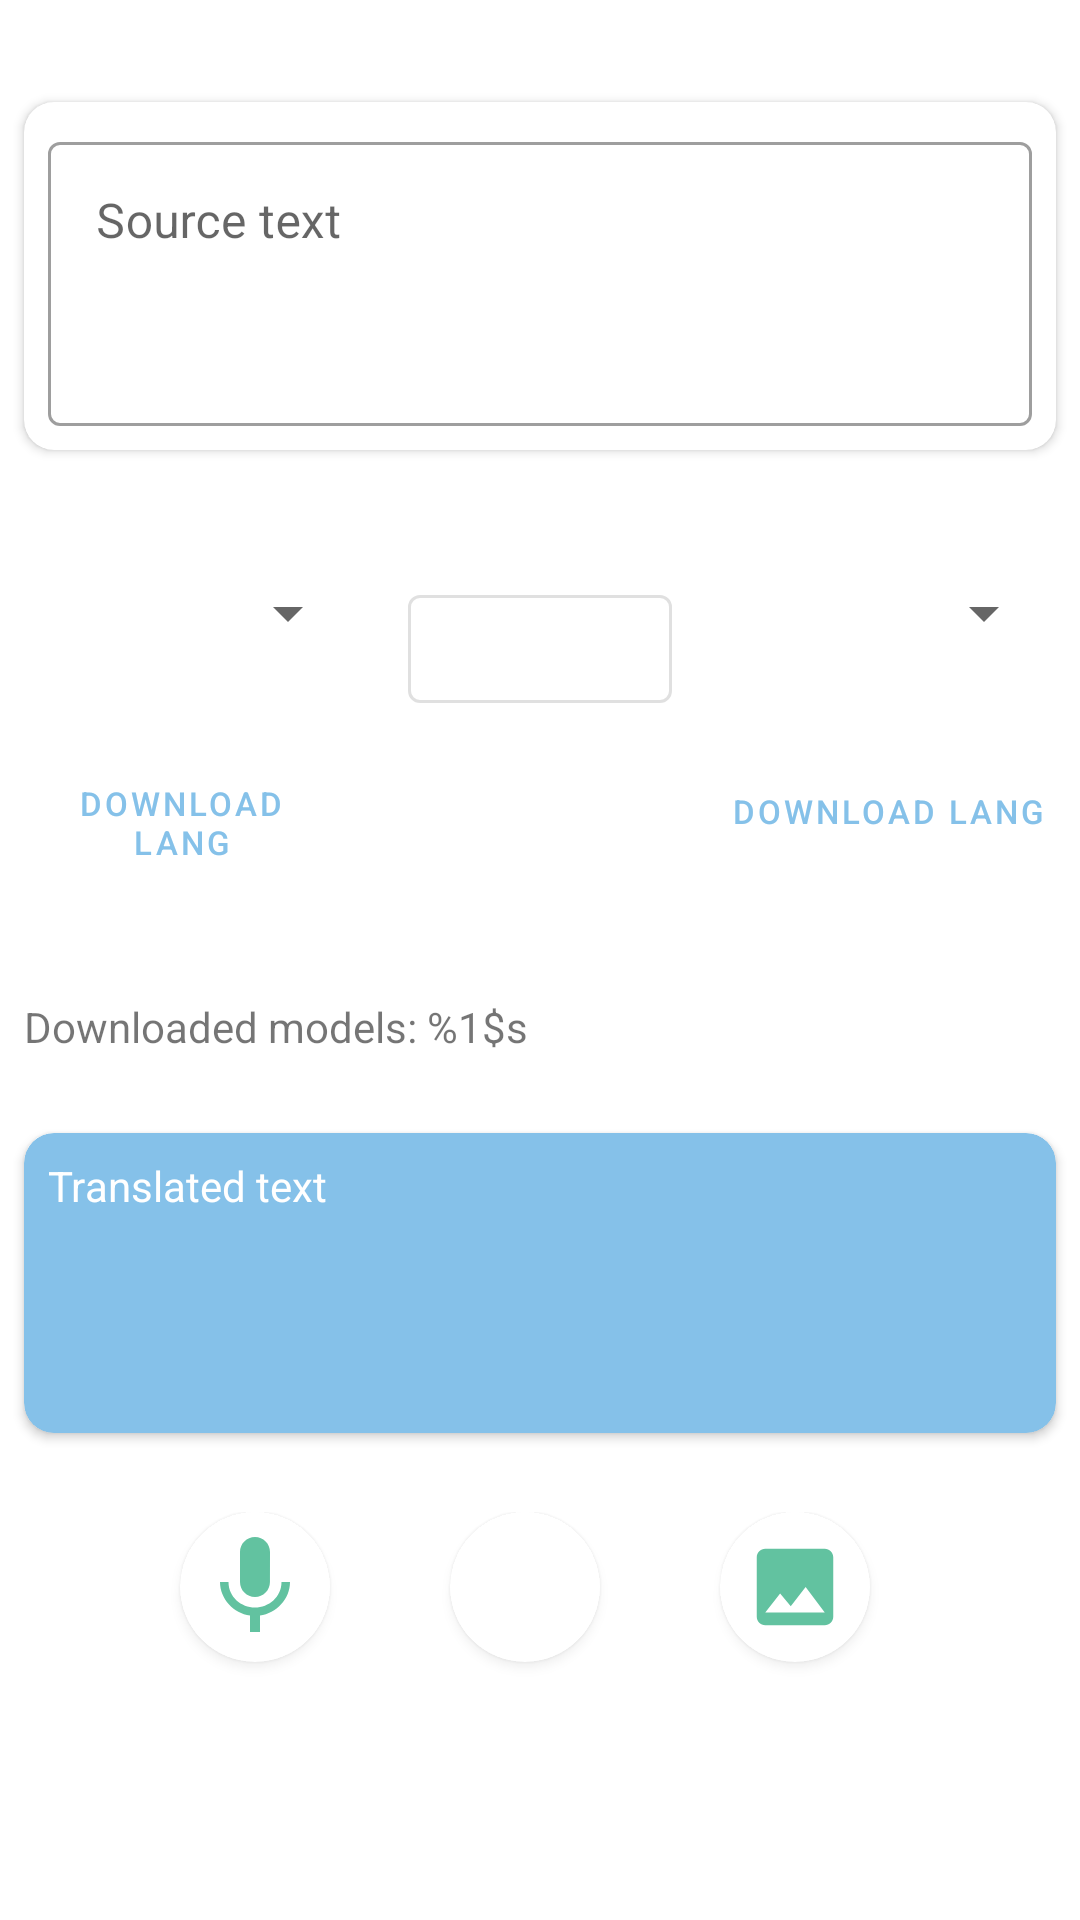

Icon click points for this 1080*1920 phone screenshot, format point (x, y):
mic: point (255, 1584)
